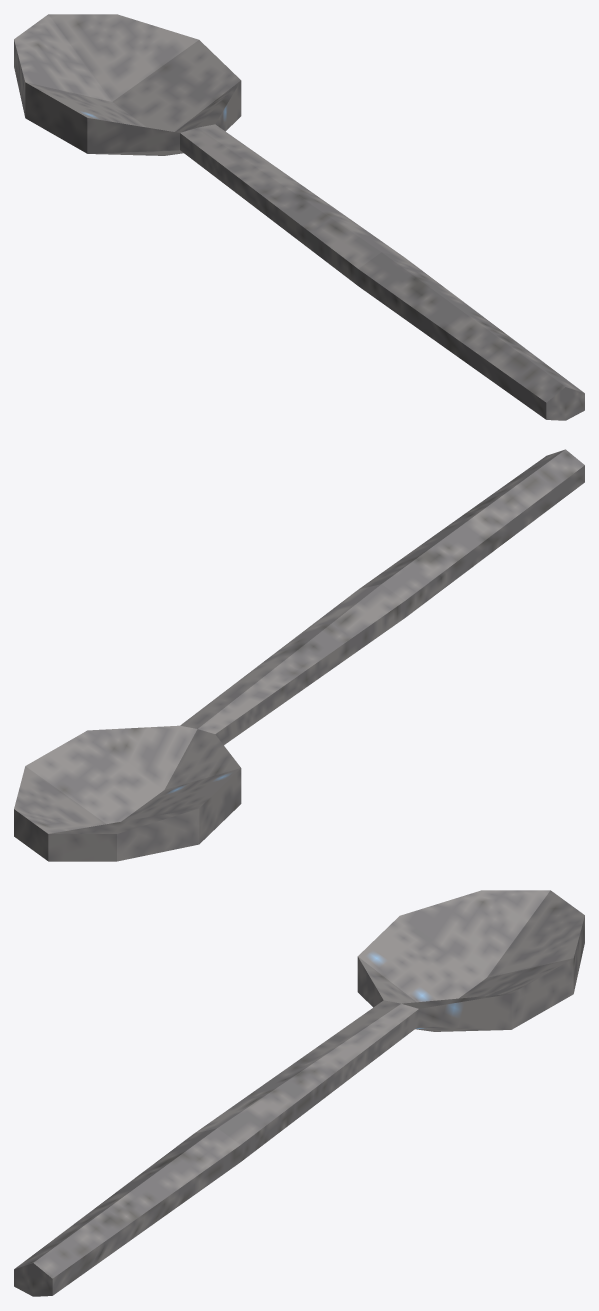
File: SM_Dungeon_Spoon.fbx
The picture shows the model from 3 angles, top to bottom: view 1: azimuth 30°, elevation 25°; view 2: azimuth 150°, elevation 25°; view 3: azimuth 330°, elevation 25°; orthographic projection.
Visible parts, largest first — view 1: SM_Dungeon_Spoon; view 2: SM_Dungeon_Spoon; view 3: SM_Dungeon_Spoon.
Part boxes in pixels (x1,y1,x2,y2): SM_Dungeon_Spoon: [14, 14, 584, 420]; SM_Dungeon_Spoon: [14, 449, 584, 861]; SM_Dungeon_Spoon: [14, 890, 584, 1296].
Bounding box in the file's own units: 5.67 × 1.96 × 29.2.
